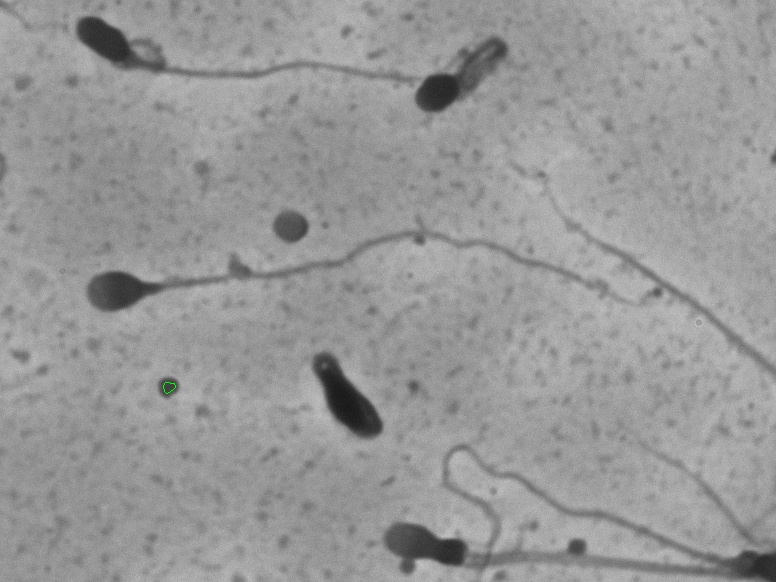Abnormal: (59, 7, 400, 115), (272, 327, 405, 461), (409, 30, 514, 135)
Normal: (70, 211, 660, 325)
